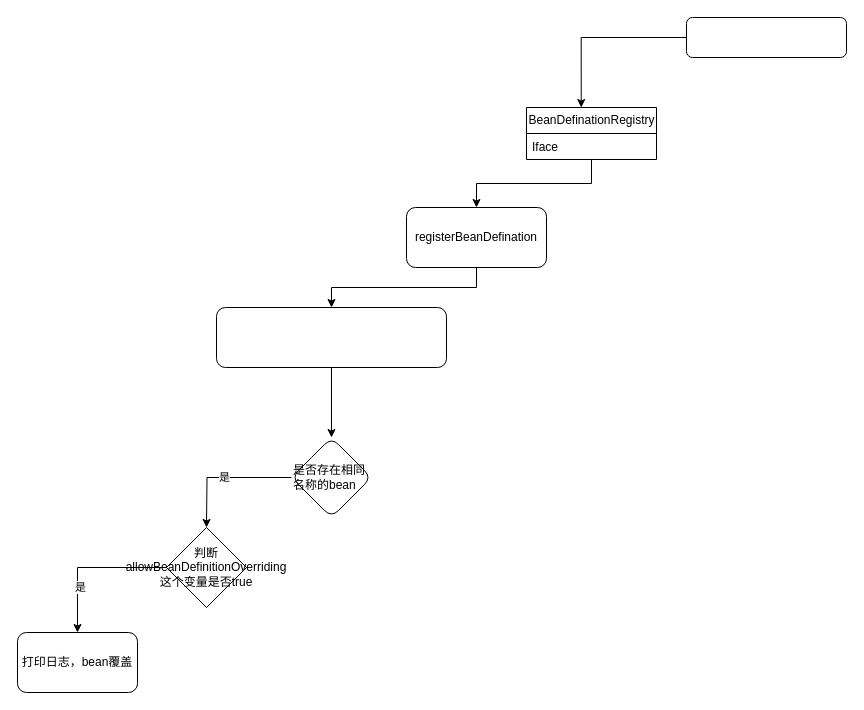
Some shapes in this 864 by 710 pixel diagram are drawn without their labels. The centre of each missing label's shape, as x and y in pixels:
"DefaultListableBeanFactory" belongs at (x=766, y=37).
"首先判断该类是否是AbstractBeanDefination的子类，该方法主要是判断该 bean 的方法有没有被复写，如果被复写了，抛出异常" belongs at (x=331, y=337).
